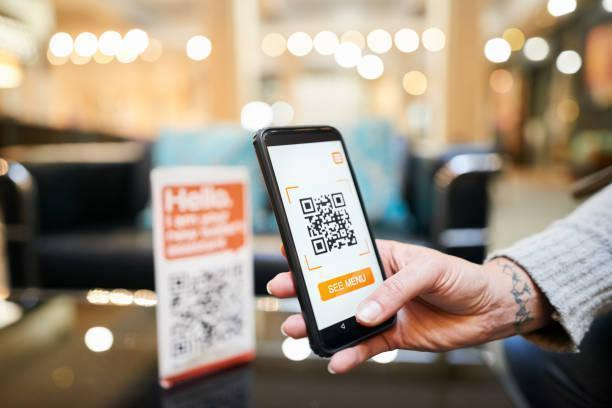qr_code: (299, 192, 358, 256)
